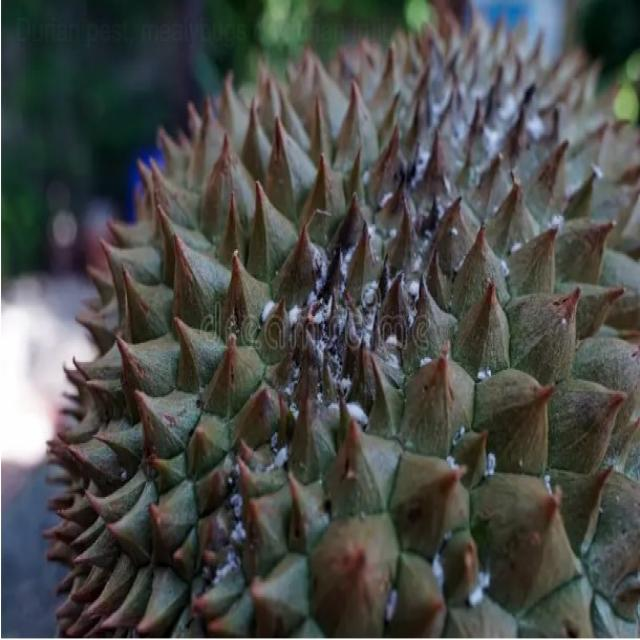defective: (50, 11, 639, 640)
